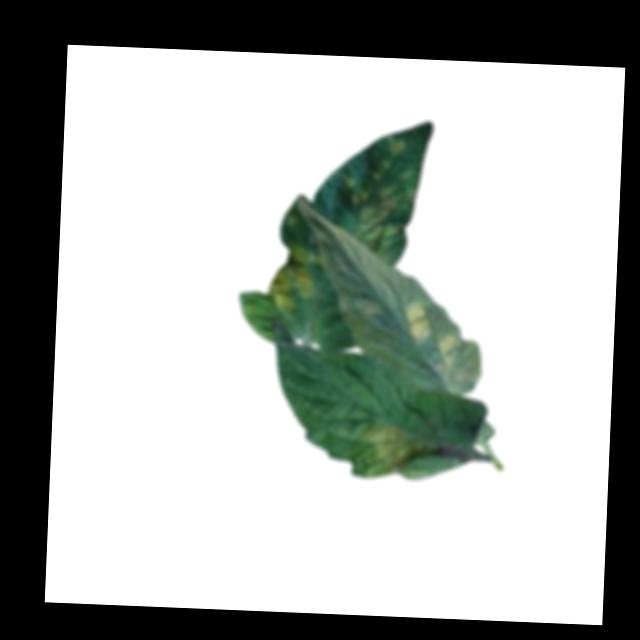Leaf_Mold: (267, 239, 321, 314), (365, 417, 430, 476), (351, 195, 406, 252), (402, 294, 436, 346), (437, 328, 466, 366)
